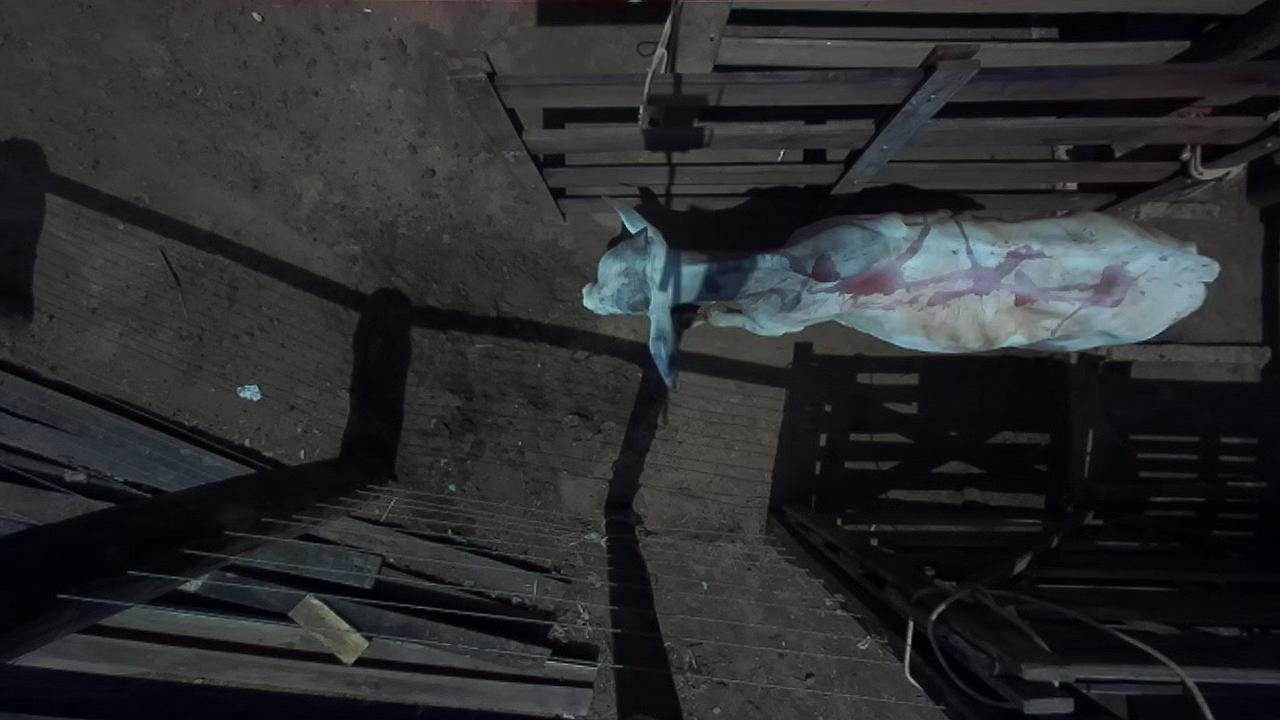cattle: (581, 183, 1221, 383)
